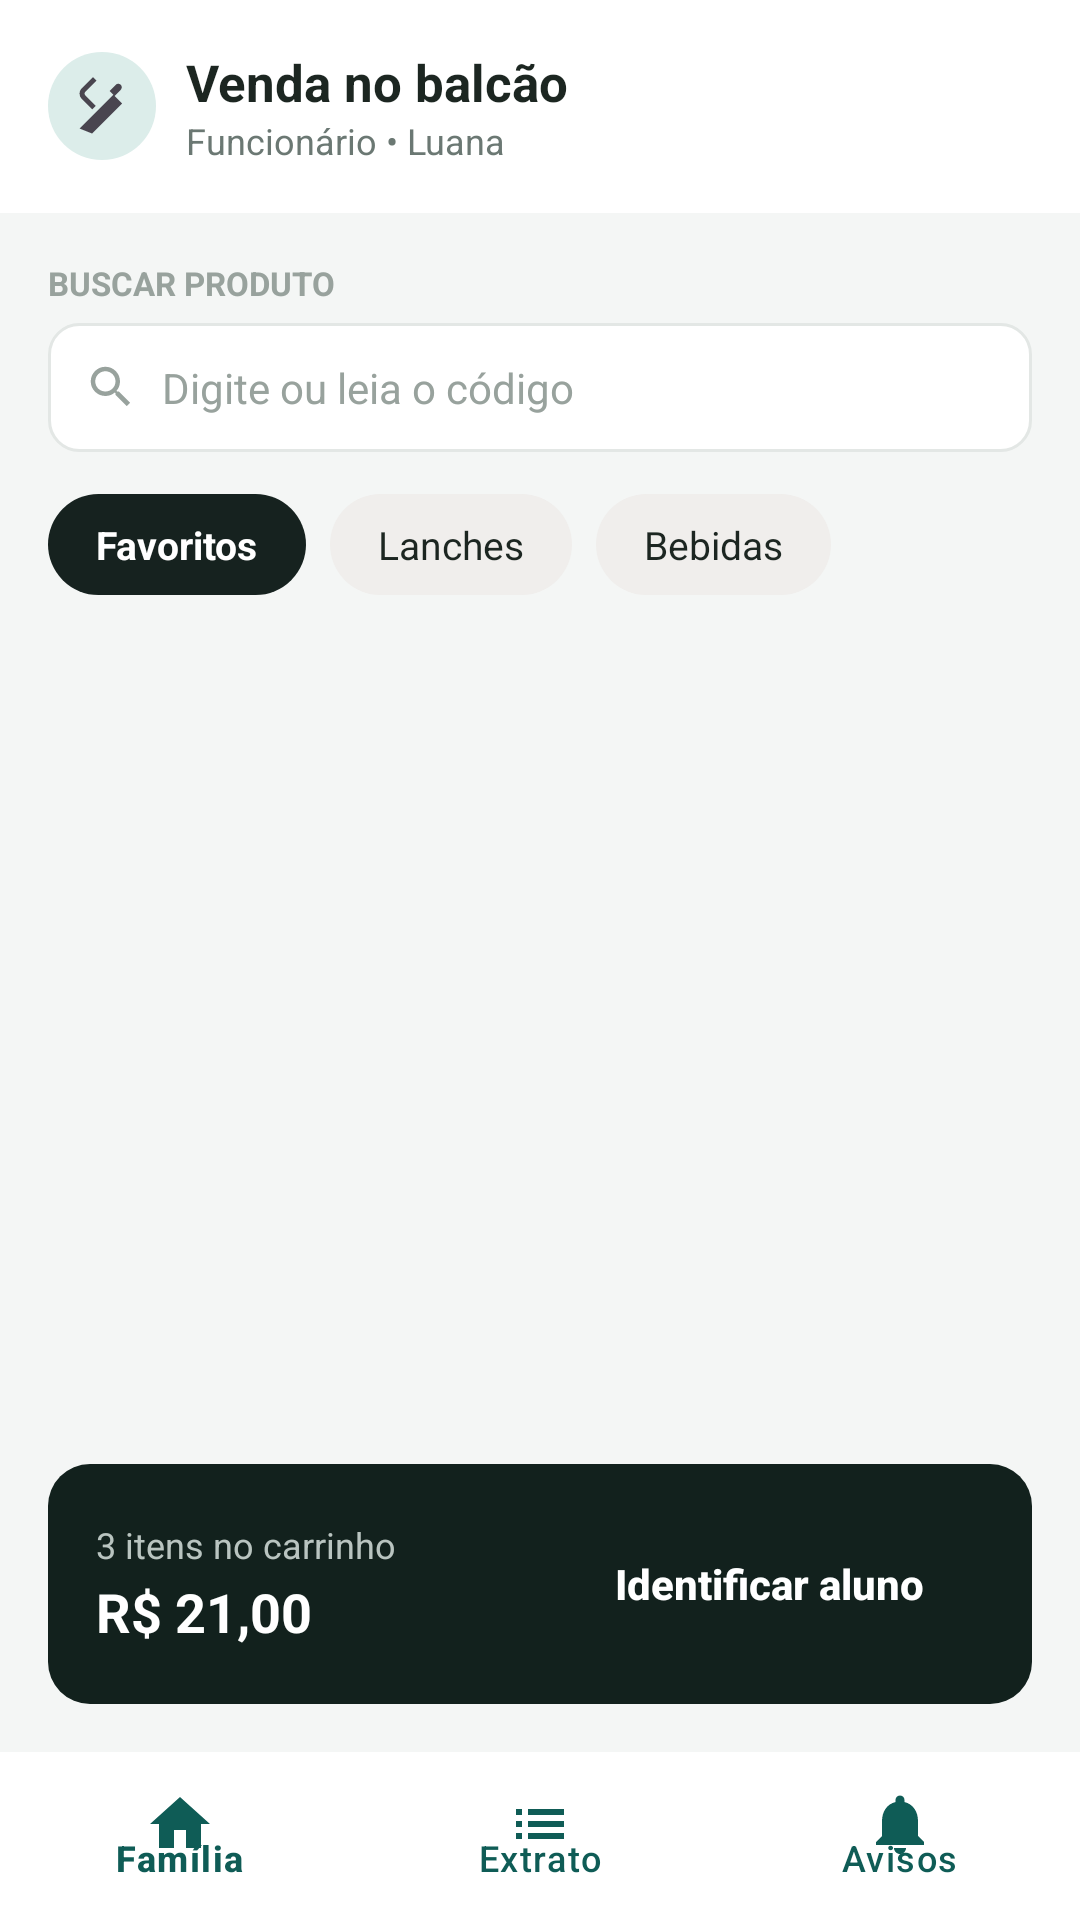

Screen size 1080w x 1920h. Icon name, then its center in pixels as (x,y):
cozinha: (102,106)
search: (110,386)
